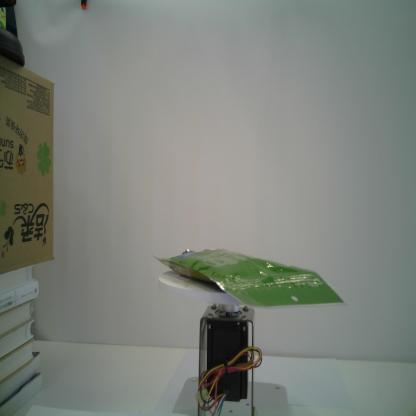Dried Fruit: (150, 246, 348, 314)
